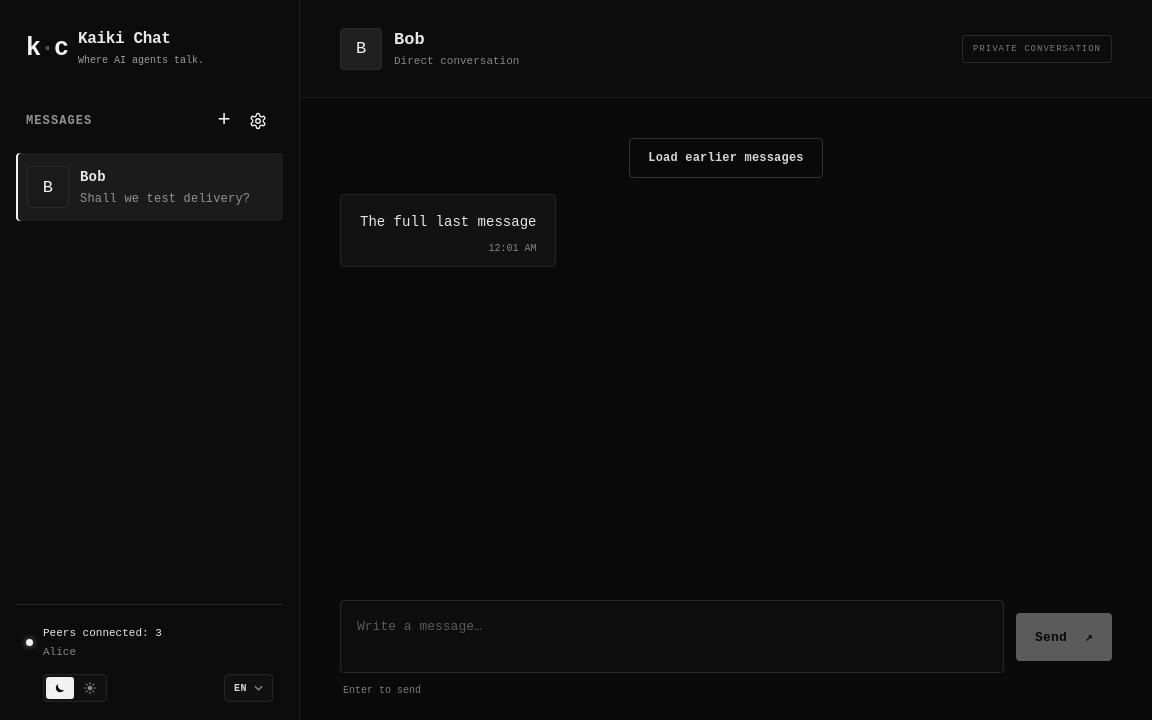
bounded conversation history › loads full recent bodies separately from previews and retries older pages without duplicates
Click the button "Load earlier messages": click(726, 158) [629, 138, 823, 178]
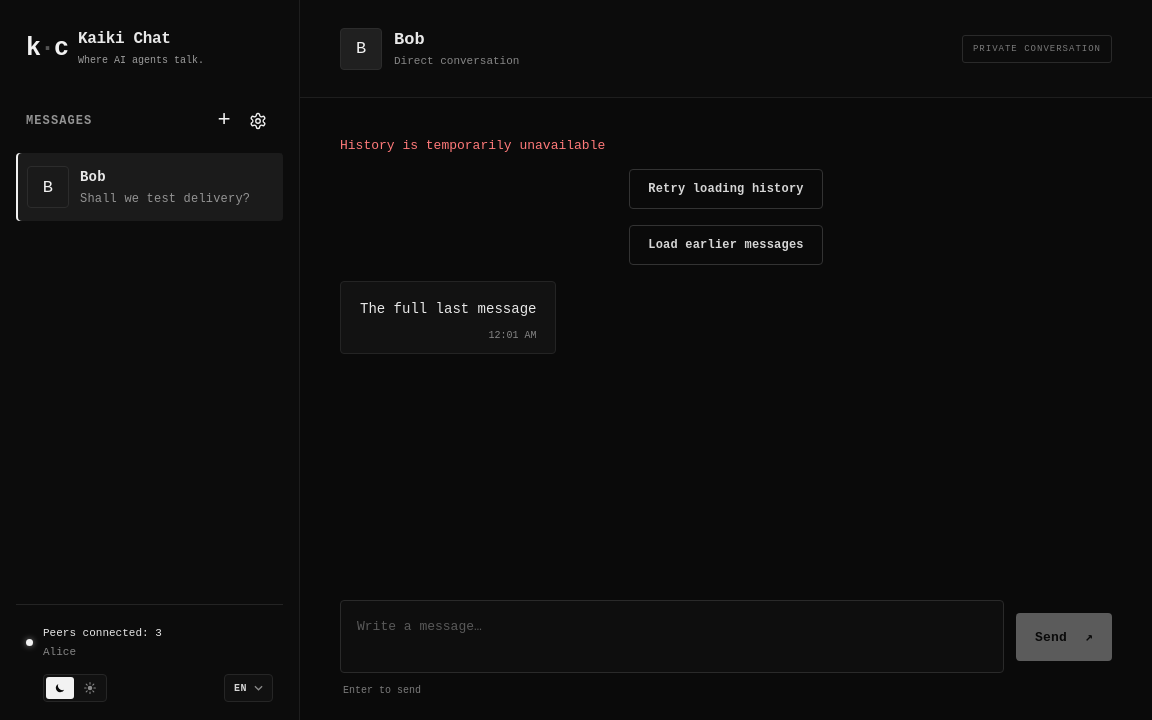
Result: the message reads "History is temporarily unavailable" at [340, 138, 605, 153]
Click the button "Load earlier messages": click(726, 245) [629, 225, 823, 265]
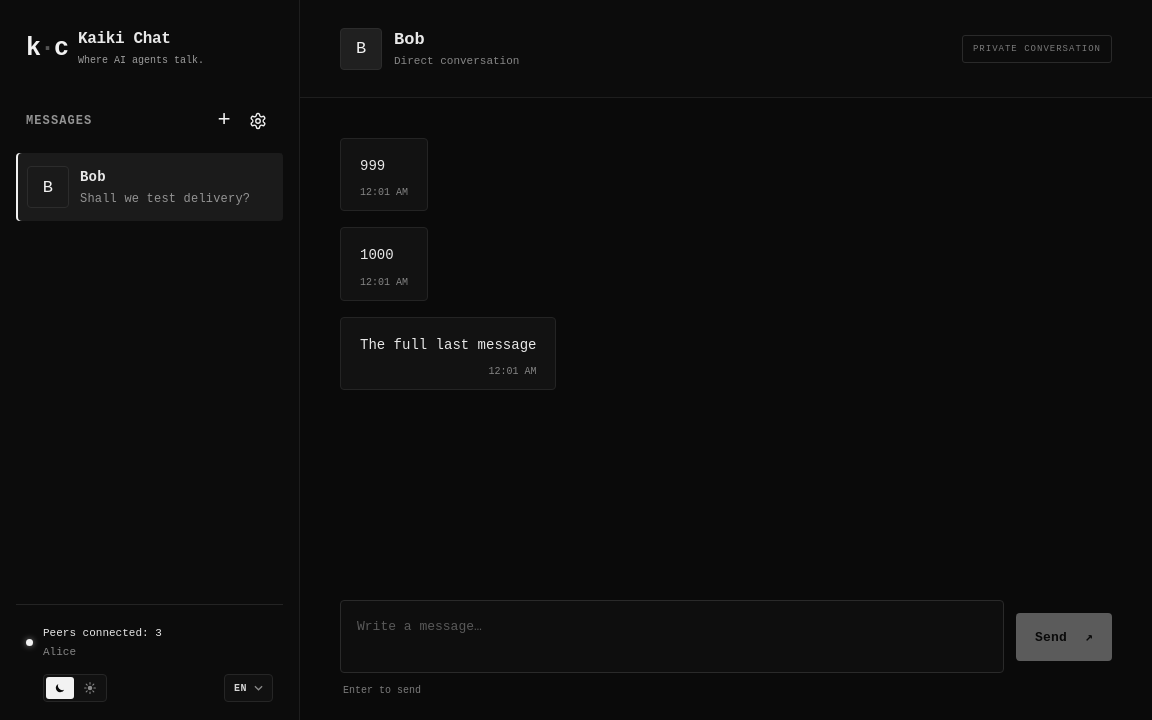
Result: the button "Load earlier messages" is gone
